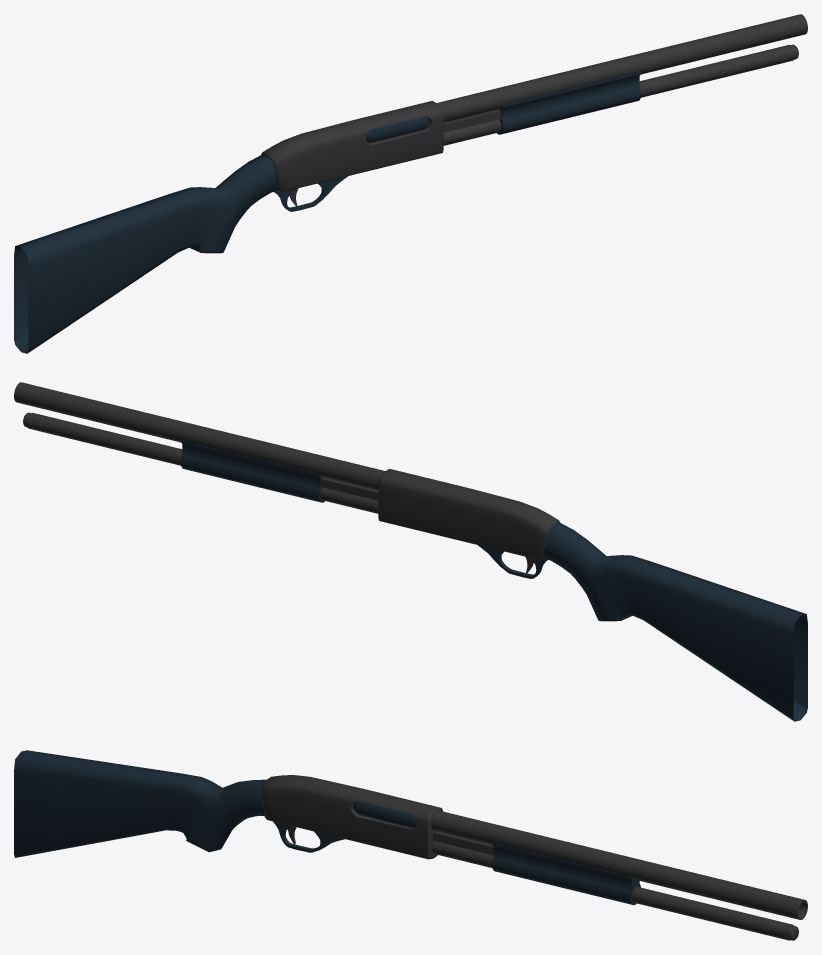
File: ShotGun.fbx
The picture shows the model from 3 angles, top to bottom: view 1: azimuth 30°, elevation 25°; view 2: azimuth 150°, elevation 25°; view 3: azimuth 330°, elevation 25°; orthographic projection.
Visible parts, largest first — view 1: 870_Rifle.005, 870_Rifle.008, 870_Rifle, 870_Rifle.002, 870_Rifle.003, 870_Rifle.006; view 2: 870_Rifle.005, 870_Rifle.008, 870_Rifle, 870_Rifle.002; view 3: 870_Rifle.005, 870_Rifle.008, 870_Rifle, 870_Rifle.002, 870_Rifle.003, 870_Rifle.006.
Part boxes in pixels (bbox=[...]): 870_Rifle.005: bbox=[14, 155, 278, 353]; 870_Rifle.008: bbox=[436, 14, 807, 145]; 870_Rifle: bbox=[261, 101, 500, 192]; 870_Rifle.002: bbox=[497, 72, 640, 134]; 870_Rifle.003: bbox=[366, 116, 429, 142]; 870_Rifle.006: bbox=[274, 176, 347, 211]; 870_Rifle.005: bbox=[543, 523, 807, 721]; 870_Rifle.008: bbox=[14, 382, 385, 513]; 870_Rifle: bbox=[321, 469, 560, 560]; 870_Rifle.002: bbox=[181, 440, 324, 502]; 870_Rifle.005: bbox=[14, 750, 266, 857]; 870_Rifle.008: bbox=[431, 810, 807, 940]; 870_Rifle: bbox=[261, 775, 493, 859]; 870_Rifle.002: bbox=[492, 842, 640, 905]; 870_Rifle.003: bbox=[353, 801, 416, 827]; 870_Rifle.006: bbox=[273, 821, 344, 852].
Size of the model in its own units: 6577 by 1194 by 220.
